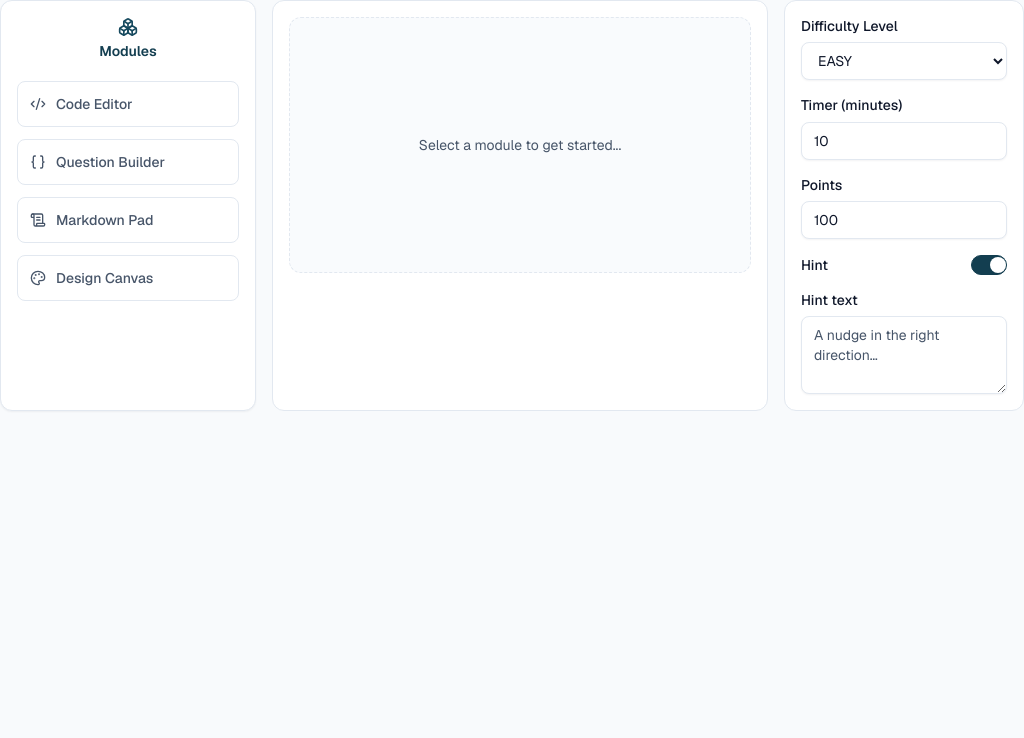
WorkspaceStep › opens the Code Editor canvas with the shared question-builder chrome
Click the button "Code Editor" at (128, 104), box [17, 81, 239, 127]
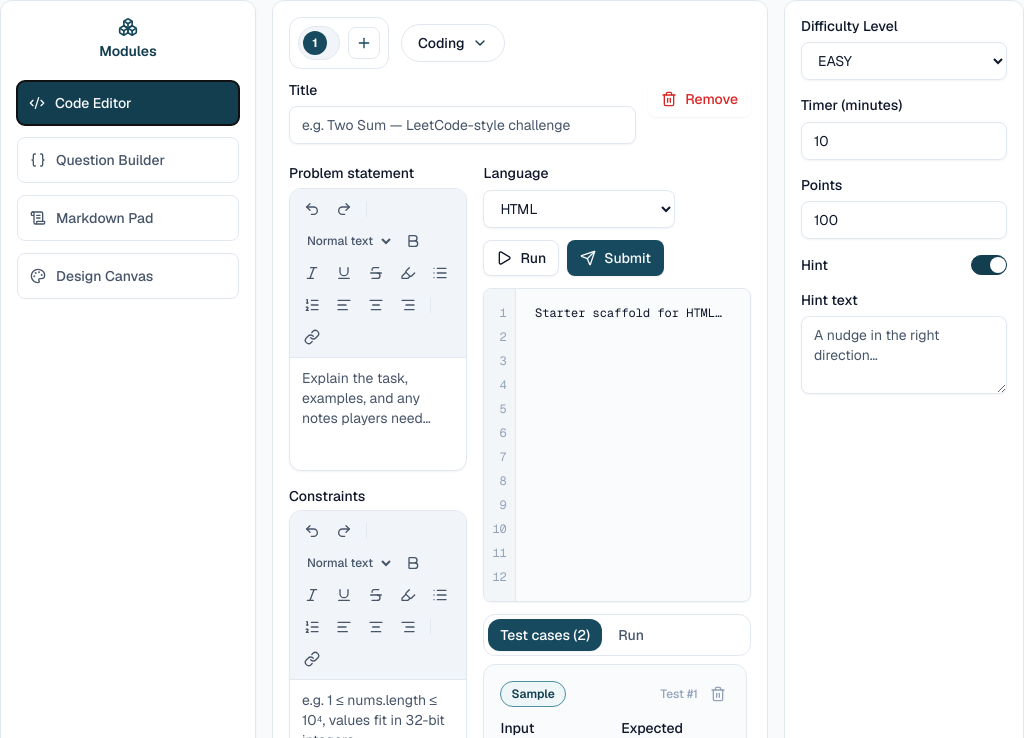
Expected: the dropdown labelled "Difficulty Level" is shown, [801, 42, 1007, 80]
Result: the tab "Test cases (2)" is shown at [488, 618, 602, 650]
Result: the button "Coding" is shown at [401, 24, 506, 62]
Click the button named "Add question" at (364, 43), box [348, 27, 380, 59]
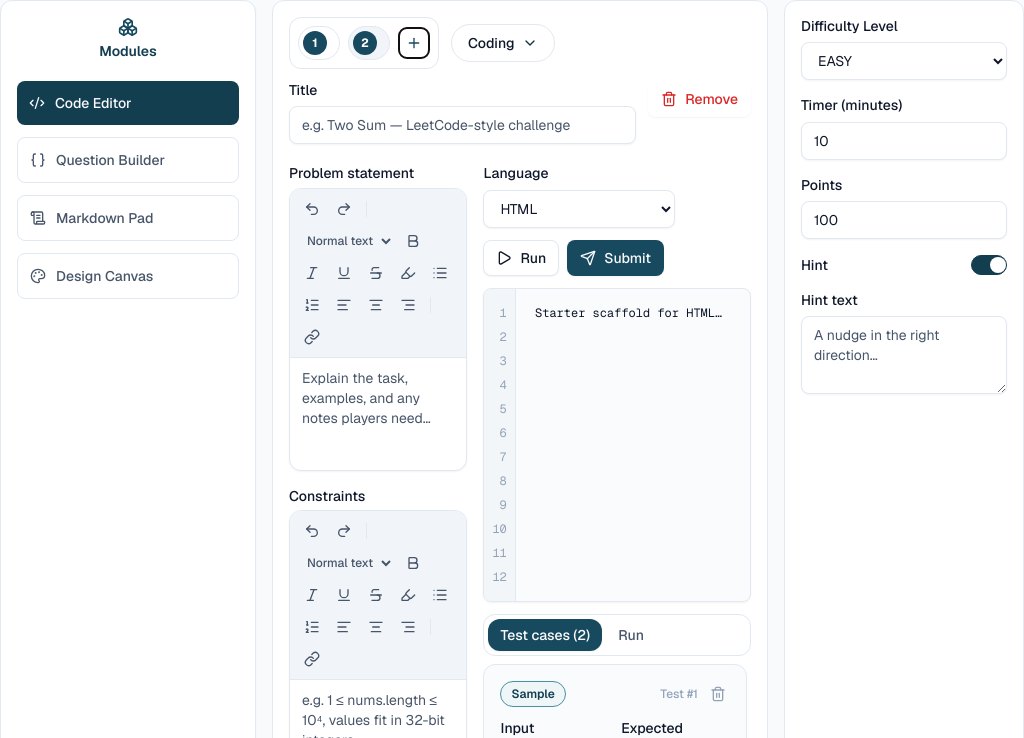
Type "Binary Search" into the field with placeholder "e.g. Two Sum — LeetCode-style challenge" at (463, 125), box [289, 106, 636, 144]
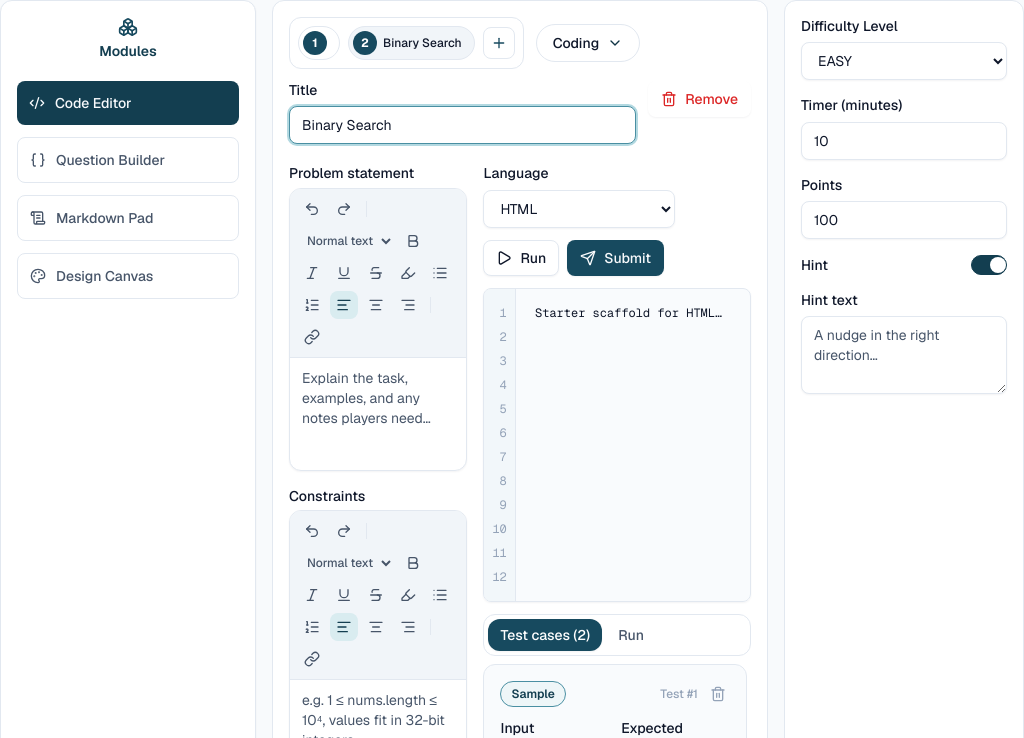
Result: the button "2 Binary Search" is shown at [348, 26, 475, 60]
